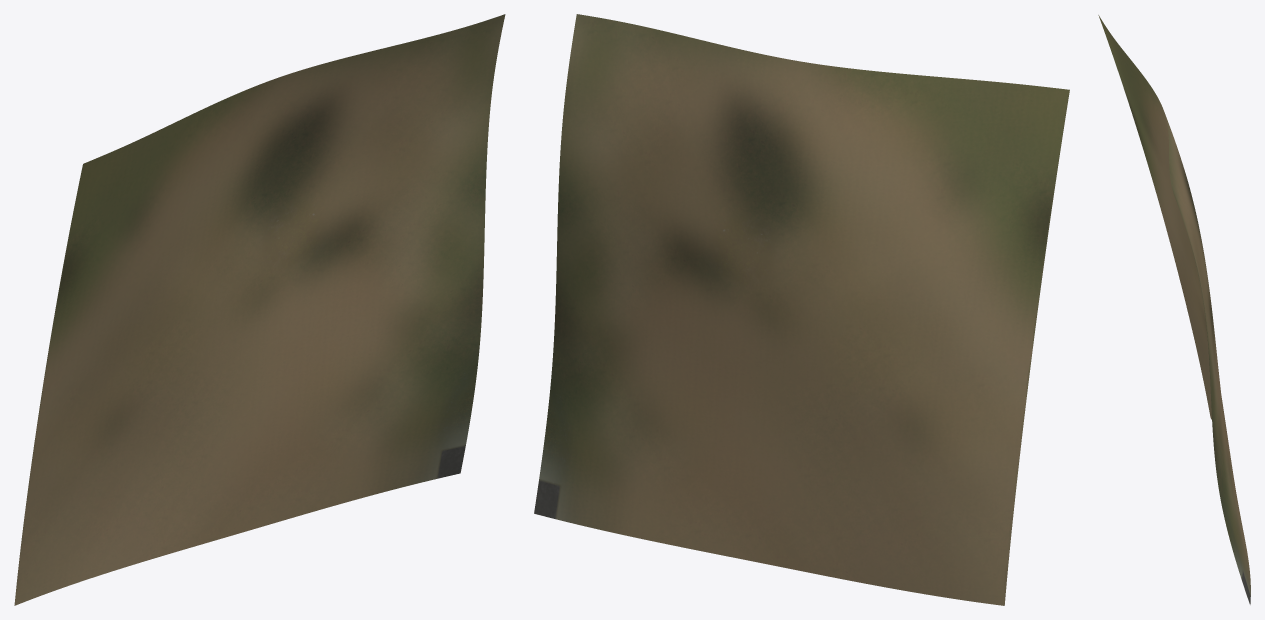
Rendered from ground_core_00_04.obj.
3 views of the same model, side by side, from view 1: azimuth 30°, elevation 25°; view 2: azimuth 150°, elevation 25°; view 3: azimuth 270°, elevation 25° (orthographic). The views are drawn at different scales.
Parts seen in each view (by area): view 1: ground_core_00_04; view 2: ground_core_00_04; view 3: ground_core_00_04.
Boxes of the visible parts, <box> form: ground_core_00_04: <box>14,14,505,605</box>; ground_core_00_04: <box>534,14,1069,605</box>; ground_core_00_04: <box>1098,15,1250,604</box>.
Size of the model in its own units: 50 by 50 by 17.16.
1 material, 1 textured.
